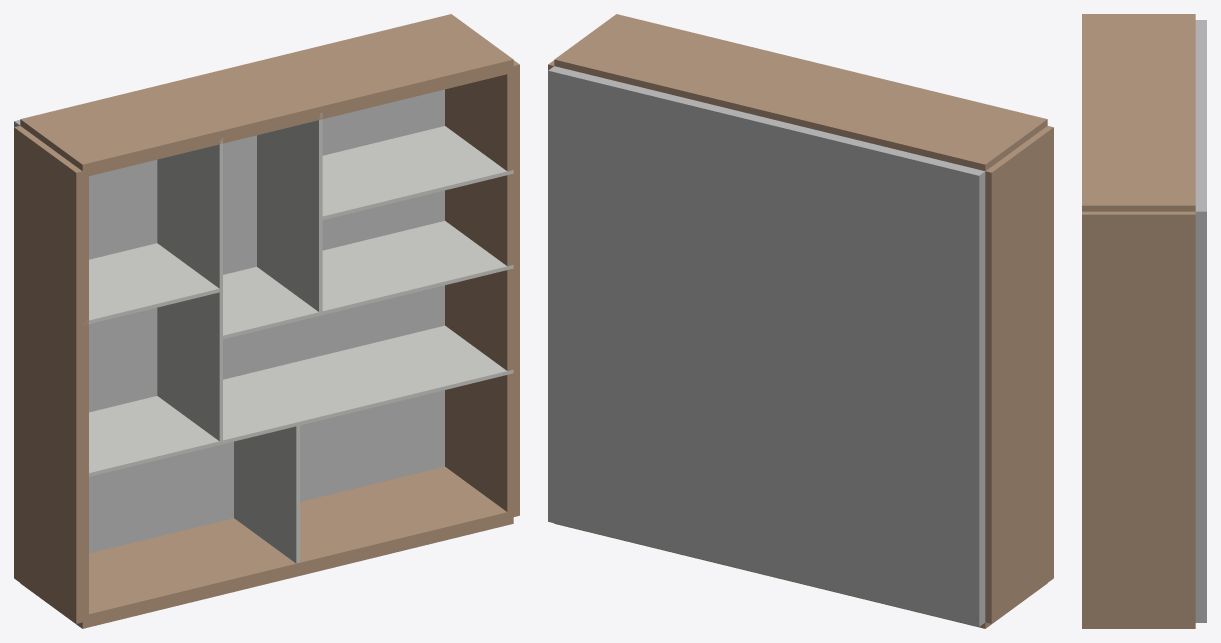
The picture shows the model from 3 angles, left to right: view 1: azimuth 30°, elevation 25°; view 2: azimuth 150°, elevation 25°; view 3: azimuth 270°, elevation 25°; orthographic projection. The views are drawn at different scales.
Parts seen in each view (by area): view 1: floor_slab, wall_3, wall_2, wall_0, wall_1, wall_14, wall_8, wall_7, wall_10, wall_4, wall_5, wall_13 (+4 smaller); view 2: floor_slab, wall_3, wall_2; view 3: wall_1, wall_2, floor_slab, wall_0.
Boxes of the visible parts, x1,y1,x2,y2 form: floor_slab: (14, 89, 444, 553); wall_3: (14, 126, 88, 623); wall_2: (20, 14, 513, 177); wall_0: (20, 466, 513, 628); wall_1: (445, 60, 519, 516); wall_14: (221, 325, 513, 444); wall_8: (321, 221, 513, 315); wall_7: (321, 126, 513, 220); wall_10: (157, 137, 222, 338); wall_4: (89, 376, 297, 476); wall_5: (234, 425, 299, 563); wall_13: (157, 290, 222, 442); floor_slab: (548, 66, 985, 626); wall_3: (985, 126, 1053, 623); wall_2: (554, 14, 1047, 171); wall_1: (1082, 211, 1195, 625); wall_2: (1082, 14, 1195, 211); floor_slab: (1195, 20, 1206, 622); wall_0: (1082, 625, 1195, 628).
Size of the model in its own units: 12.35 by 12.35 by 3.3.
